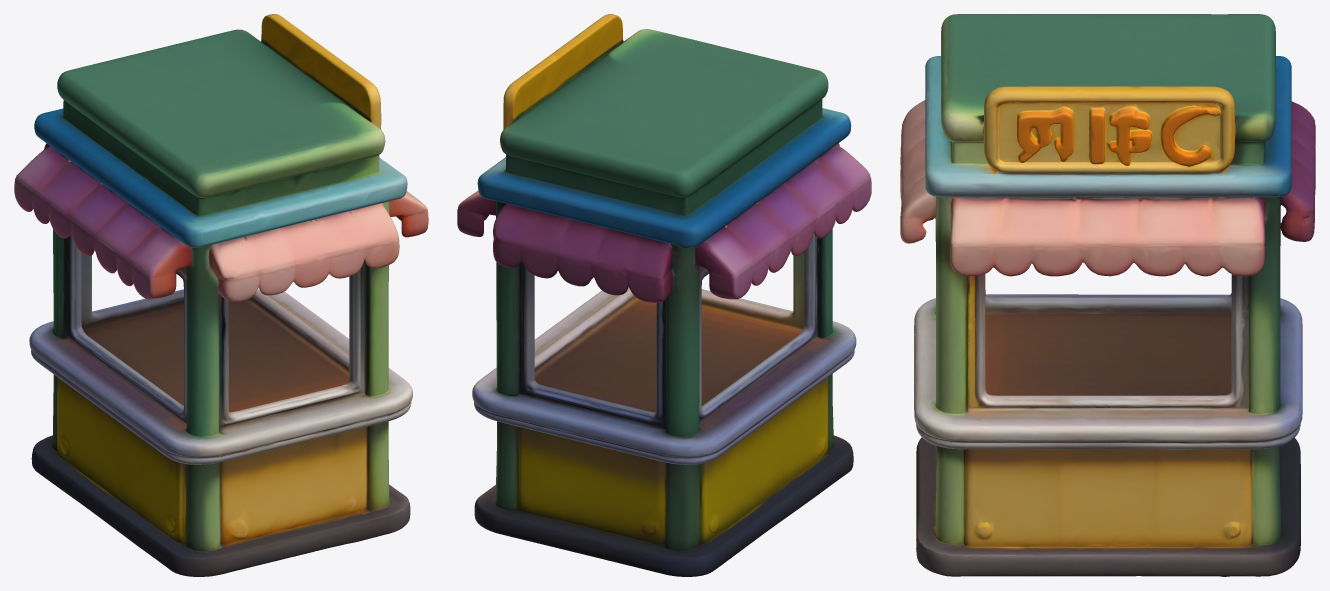
The model's file is plaza-ticket-booth.glb.
3 renders of one model, left to right at view 1: azimuth 30°, elevation 25°; view 2: azimuth 150°, elevation 25°; view 3: azimuth 270°, elevation 25°, orthographic. The views are drawn at different scales.
Parts seen in each view (by area): view 1: tripo_node_4cdc37ef-055c-471d-a353-9a963aeae17f; view 2: tripo_node_4cdc37ef-055c-471d-a353-9a963aeae17f; view 3: tripo_node_4cdc37ef-055c-471d-a353-9a963aeae17f.
Boxes of the visible parts, bbox=[...] form: tripo_node_4cdc37ef-055c-471d-a353-9a963aeae17f: bbox=[14, 14, 428, 576]; tripo_node_4cdc37ef-055c-471d-a353-9a963aeae17f: bbox=[457, 14, 871, 576]; tripo_node_4cdc37ef-055c-471d-a353-9a963aeae17f: bbox=[900, 14, 1315, 576].
Bounding box in the file's own units: 1.66 × 2.5 × 1.88.
Materials: 1 (1 with a texture image).
